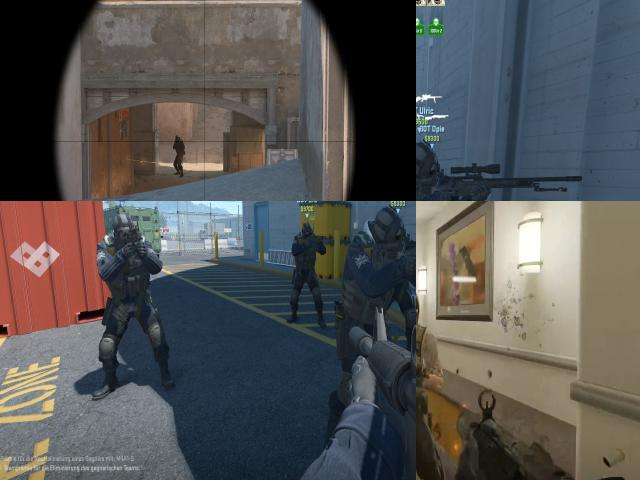CT: (347, 206, 398, 411), (104, 212, 154, 382), (389, 211, 416, 345), (295, 223, 319, 323), (423, 146, 450, 201), (173, 134, 186, 176)
CT-Head: (370, 208, 396, 247), (114, 214, 133, 244), (416, 142, 429, 182), (432, 154, 443, 173), (398, 219, 409, 238), (301, 224, 312, 238), (175, 135, 179, 141)
T: (416, 318, 443, 407)
T-Head: (416, 282, 431, 345)
